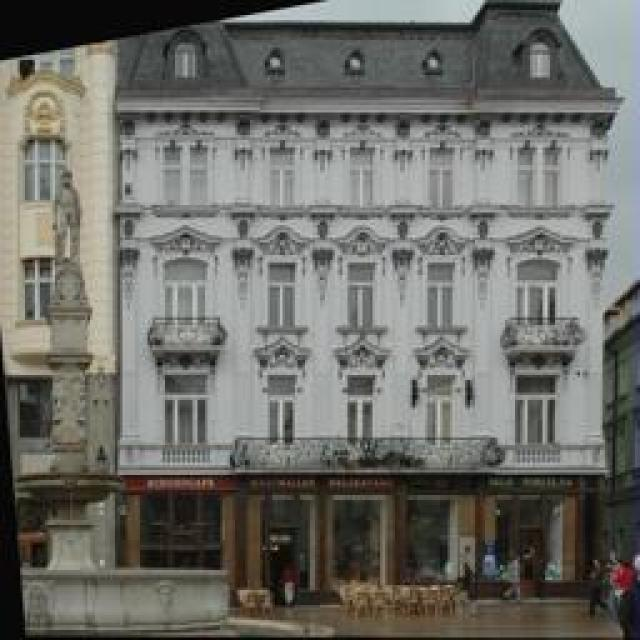building: (120, 12, 618, 602)
